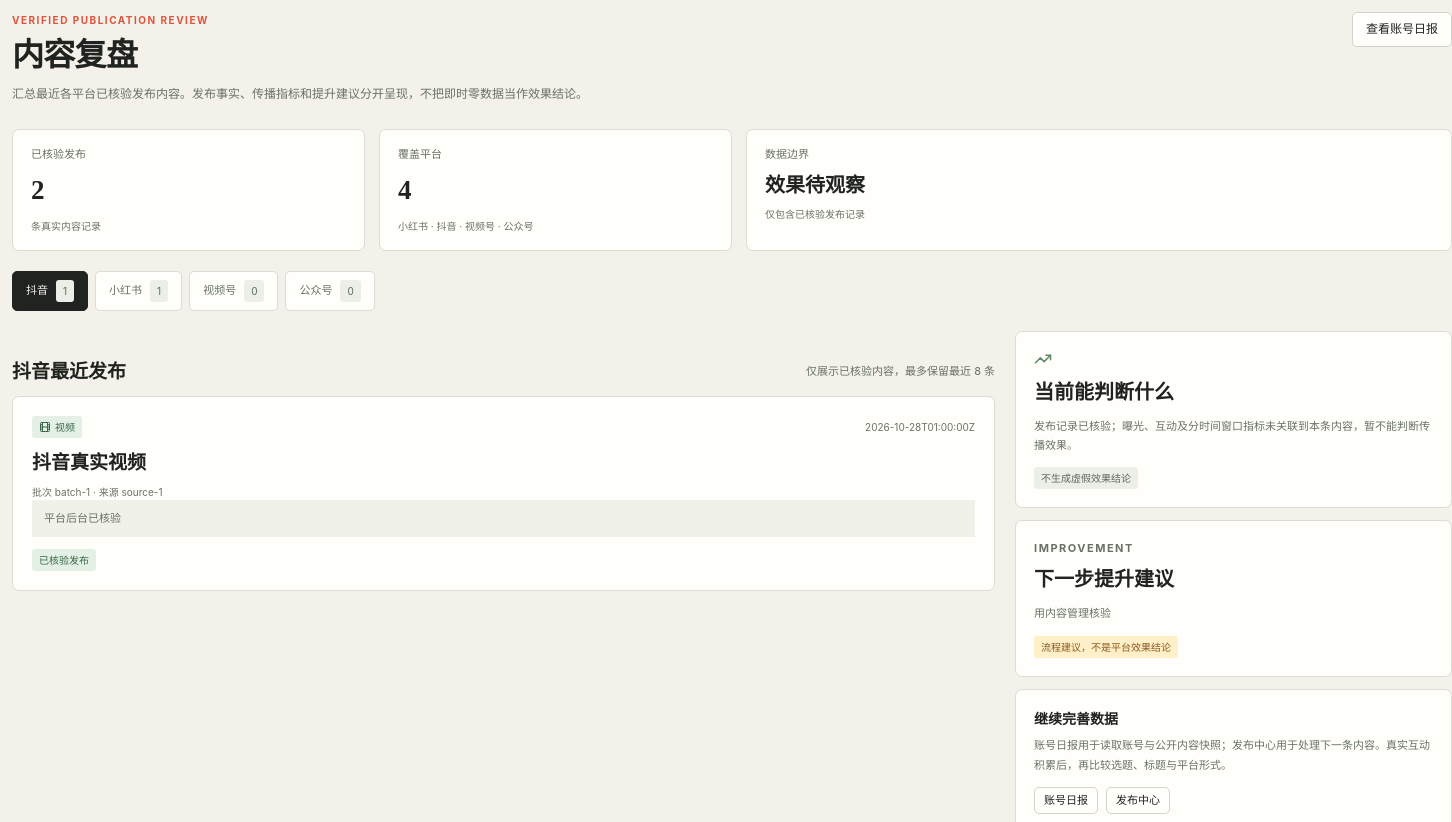
Scenario: Retrospective › shows verified records, platform filters and evidence boundaries
Expected: the heading "抖音真实视频" is shown, [32,452,146,473]
Expected: the text "已核验发布" next to "覆盖平台" is shown, [31,147,86,161]
Click the tab "小红书 1" at (139, 291), box [95,271,182,311]
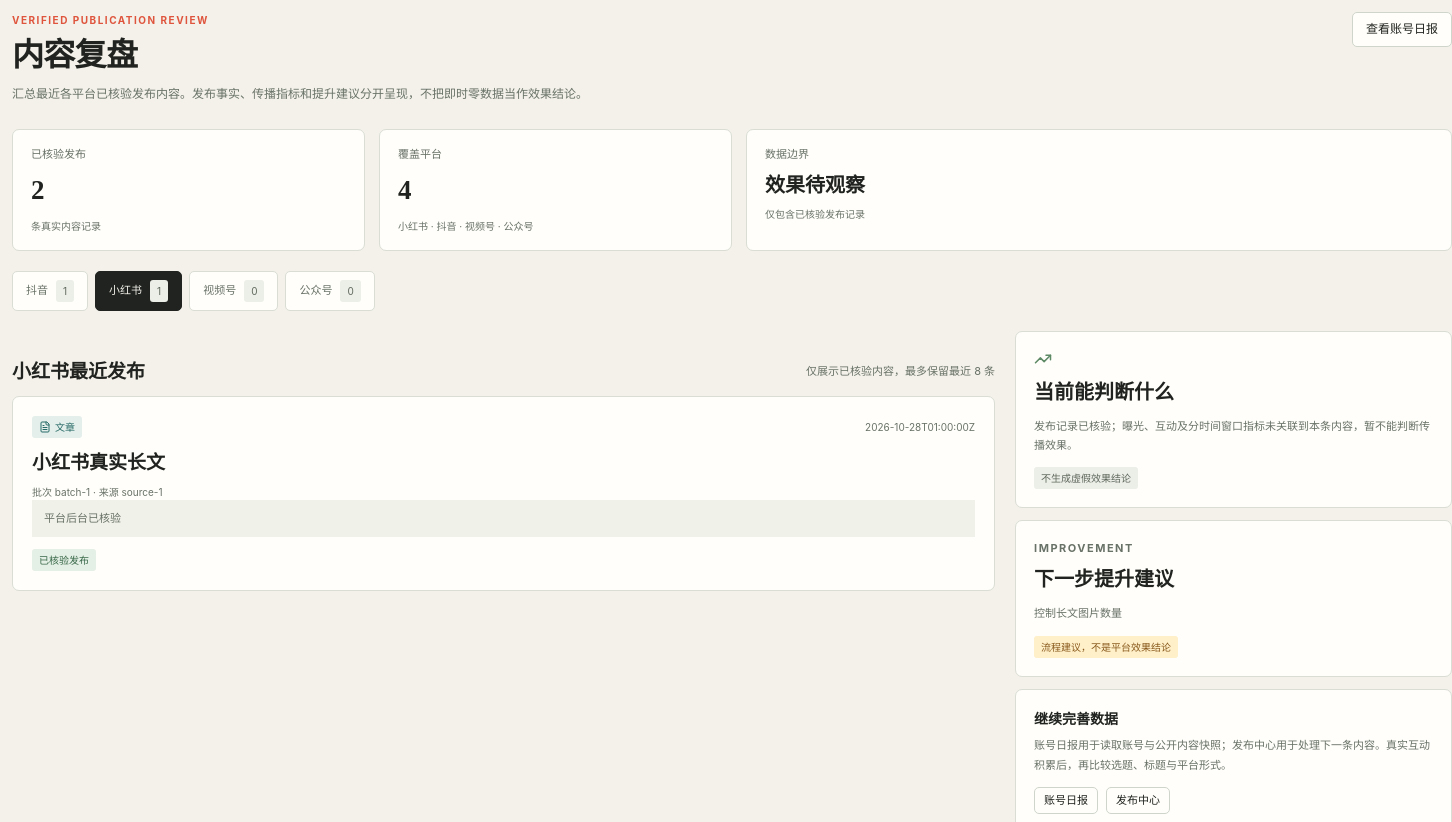
Expected: the text "流程建议，不是平台效果结论" is shown, [1034,636,1178,658]
Now the heading "小红书真实长文" is shown, box [32,452,165,473]
Now the text "控制长文图片数量" is shown, box [1034,606,1122,620]
